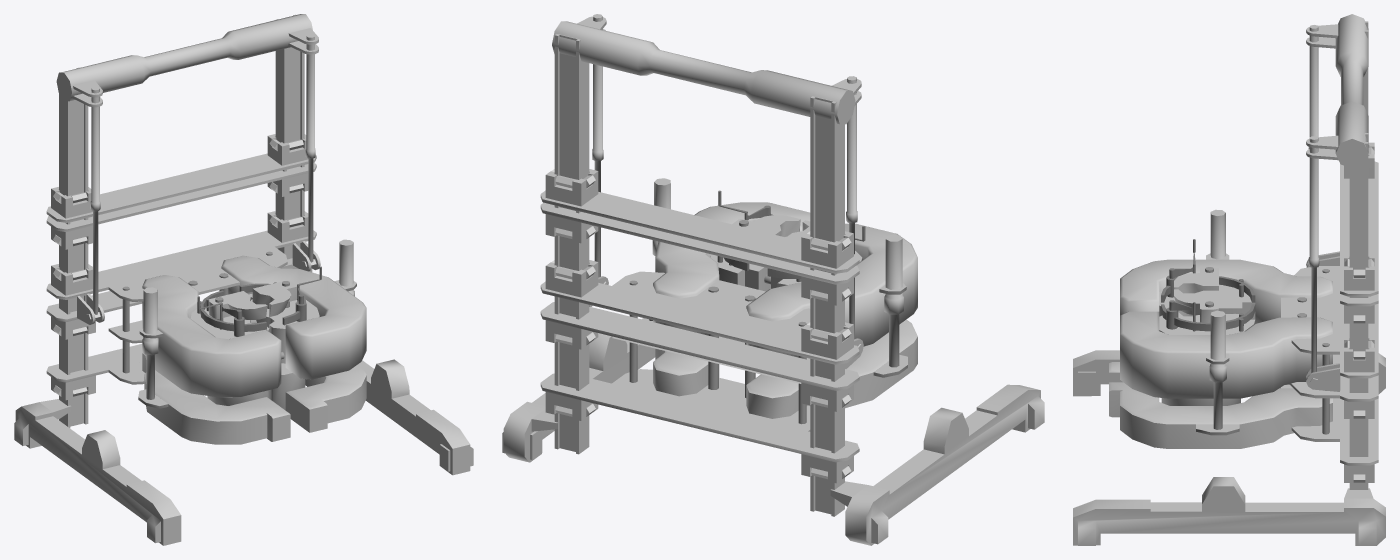
Rendered from oilRig_ironRoughneck_AST.fbx.
The picture shows the model from 3 angles, left to right: view 1: azimuth 30°, elevation 25°; view 2: azimuth 150°, elevation 25°; view 3: azimuth 270°, elevation 25°; orthographic projection. The views are drawn at different scales.
Visible parts, largest first — view 1: polySurface124; view 2: polySurface124; view 3: polySurface124.
Part boxes in pixels (<box>): polySurface124: <box>14,14,473,545</box>; polySurface124: <box>502,14,1044,545</box>; polySurface124: <box>1073,14,1385,545</box>.
Size of the model in its own units: 207 by 229 by 167.
